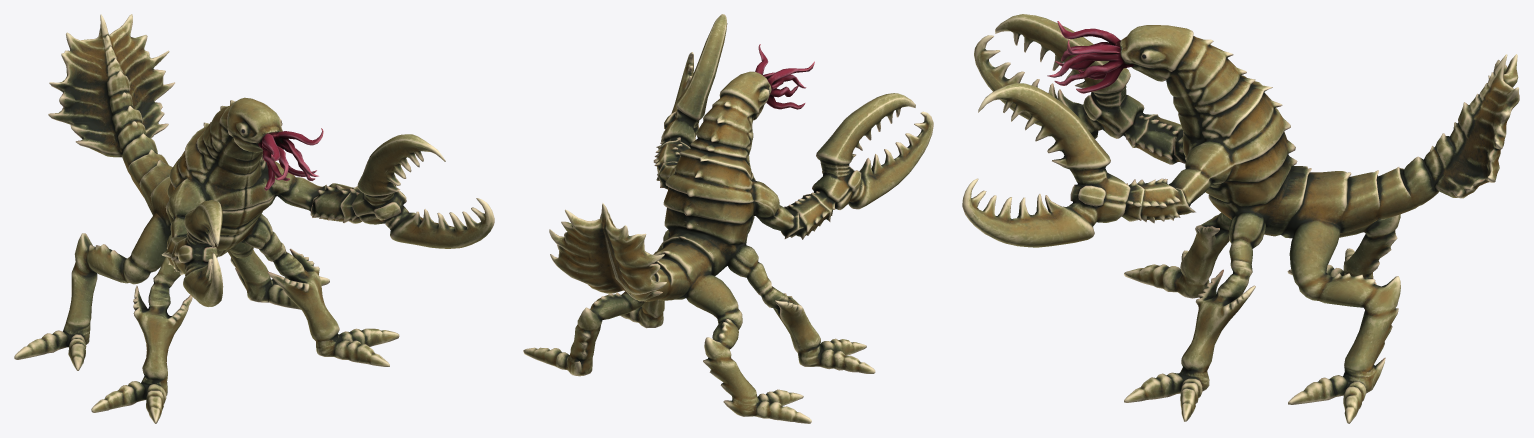
The model's file is MZ4250 - Chuul.glb.
The picture shows the model from 3 angles, left to right: view 1: azimuth 30°, elevation 25°; view 2: azimuth 150°, elevation 25°; view 3: azimuth 270°, elevation 25°; orthographic projection. The views are drawn at different scales.
Parts seen in each view (by area): view 1: body_low.001; view 2: body_low.001; view 3: body_low.001.
Boxes of the visible parts, x1=… form: body_low.001: x1=14, y1=14, x2=494, y2=423; body_low.001: x1=523, y1=14, x2=933, y2=423; body_low.001: x1=962, y1=14, x2=1519, y2=423.
Size of the model in its own units: 7.32 by 6.24 by 10.03.
1 material, 1 textured.
